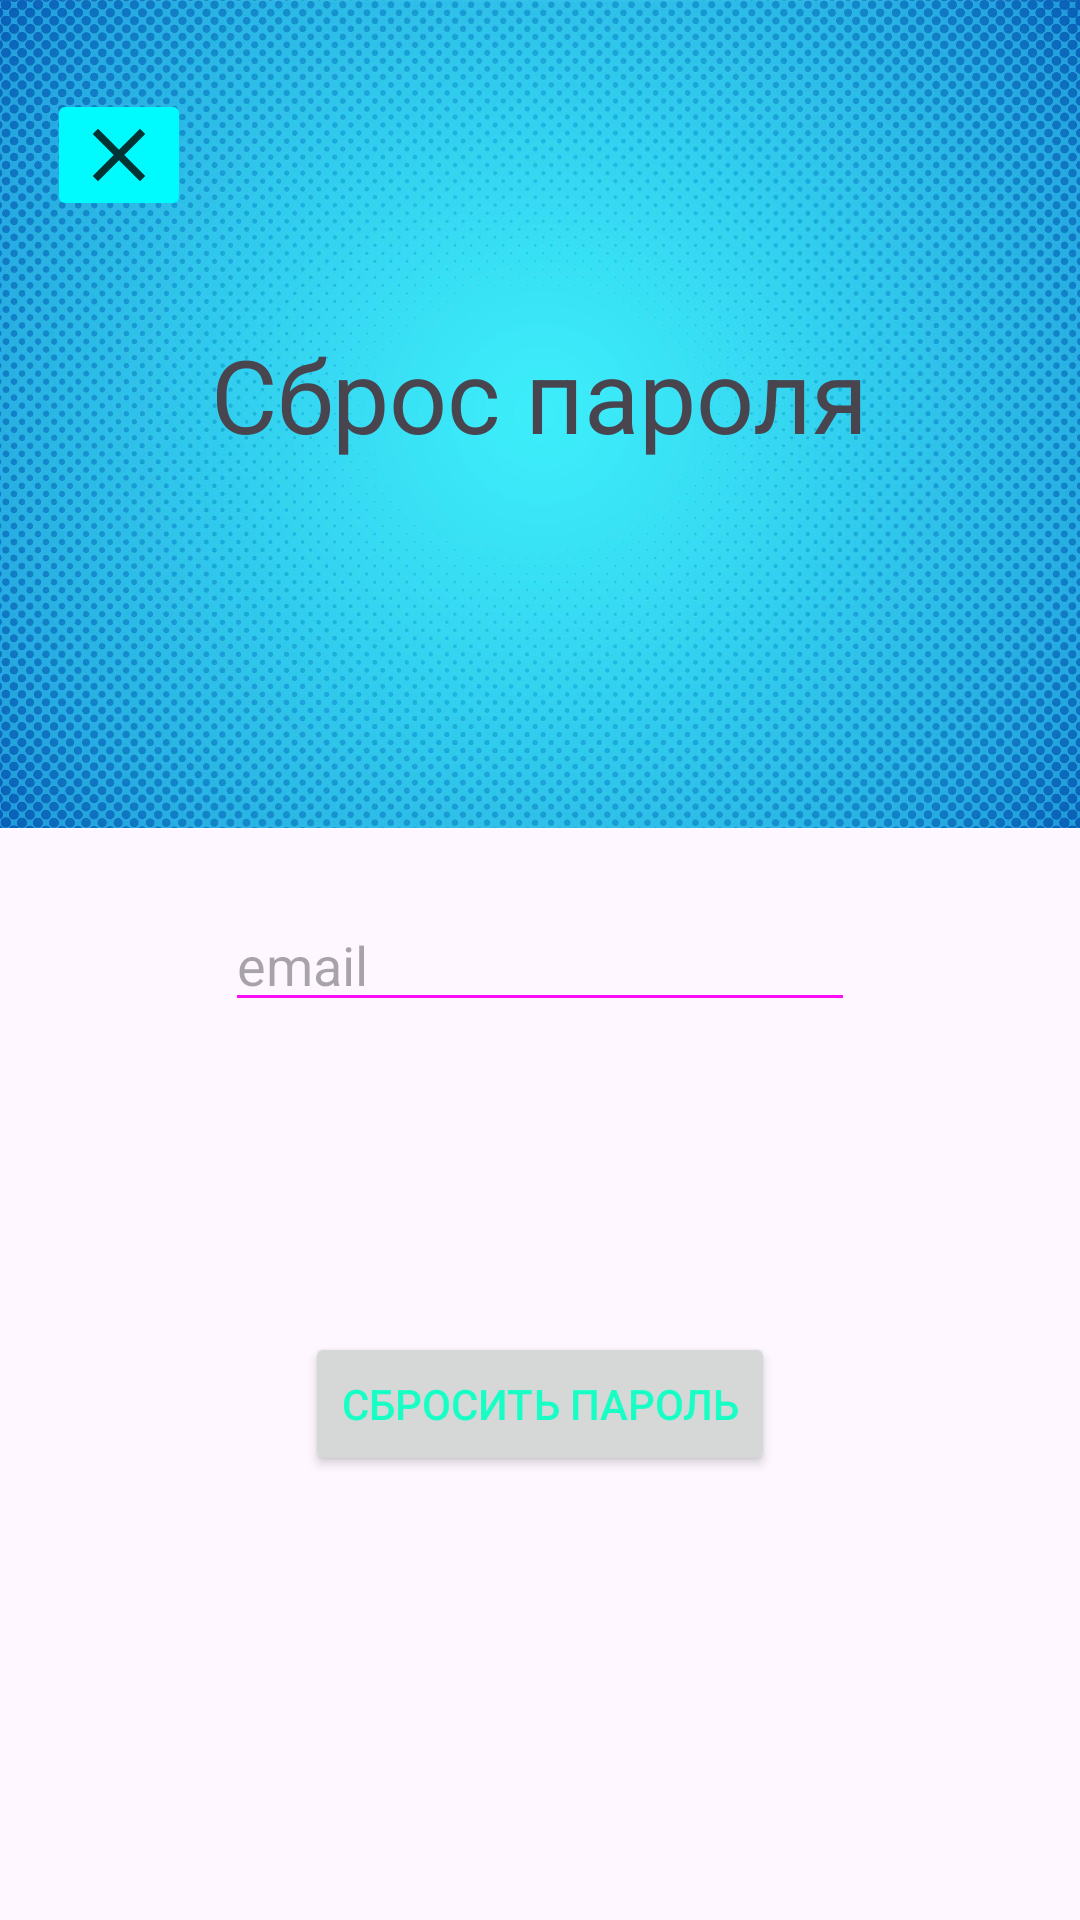

Icon click points for this 1080*1920 phone screenshot, format (x,y):
close: (119,155)
